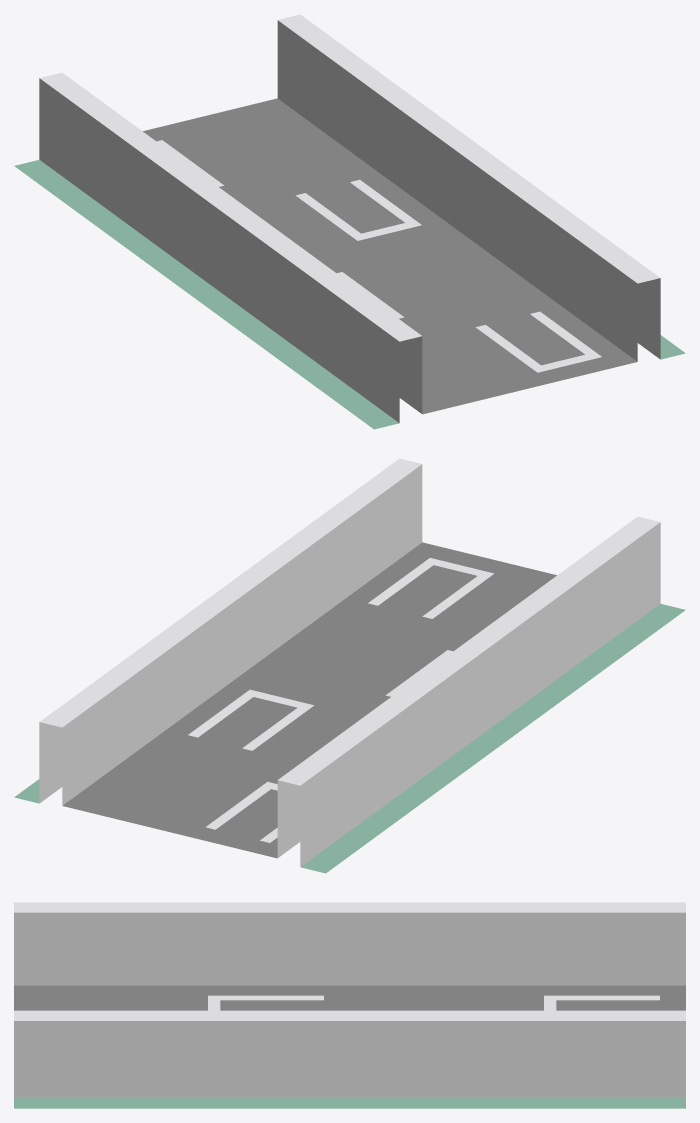
File: roadStartPositionscopy.dae
The picture shows the model from 3 angles, top to bottom: view 1: azimuth 30°, elevation 25°; view 2: azimuth 150°, elevation 25°; view 3: azimuth 270°, elevation 25°; orthographic projection. The views are drawn at different scales.
Parts seen in each view (by area): view 1: roadStartPositions; view 2: roadStartPositions; view 3: roadStartPositions.
Boxes of the visible parts, box(x1,y1,x2,y2) form: roadStartPositions: box(14, 14, 685, 429); roadStartPositions: box(14, 458, 685, 873); roadStartPositions: box(14, 902, 685, 1108).
Size of the model in its own units: 1 by 2 by 0.25.
